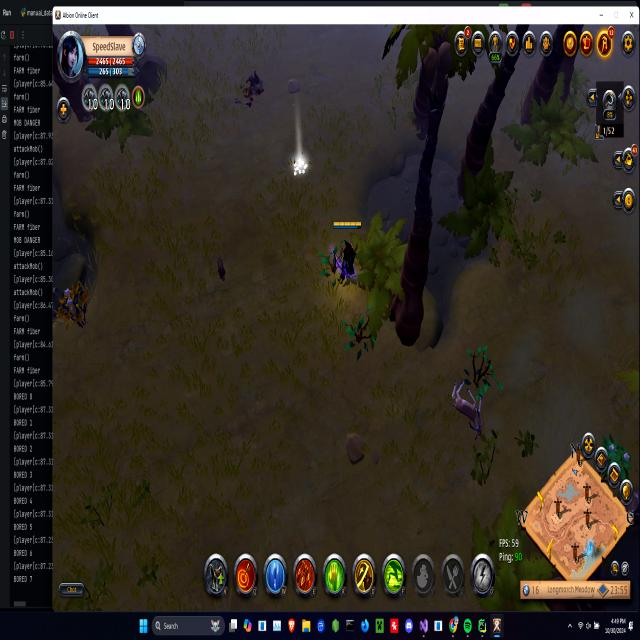hide: (56, 279, 91, 332), (602, 432, 630, 480)
mob: (448, 376, 486, 438)
red: (332, 215, 362, 282)
stone: (292, 154, 310, 178)
